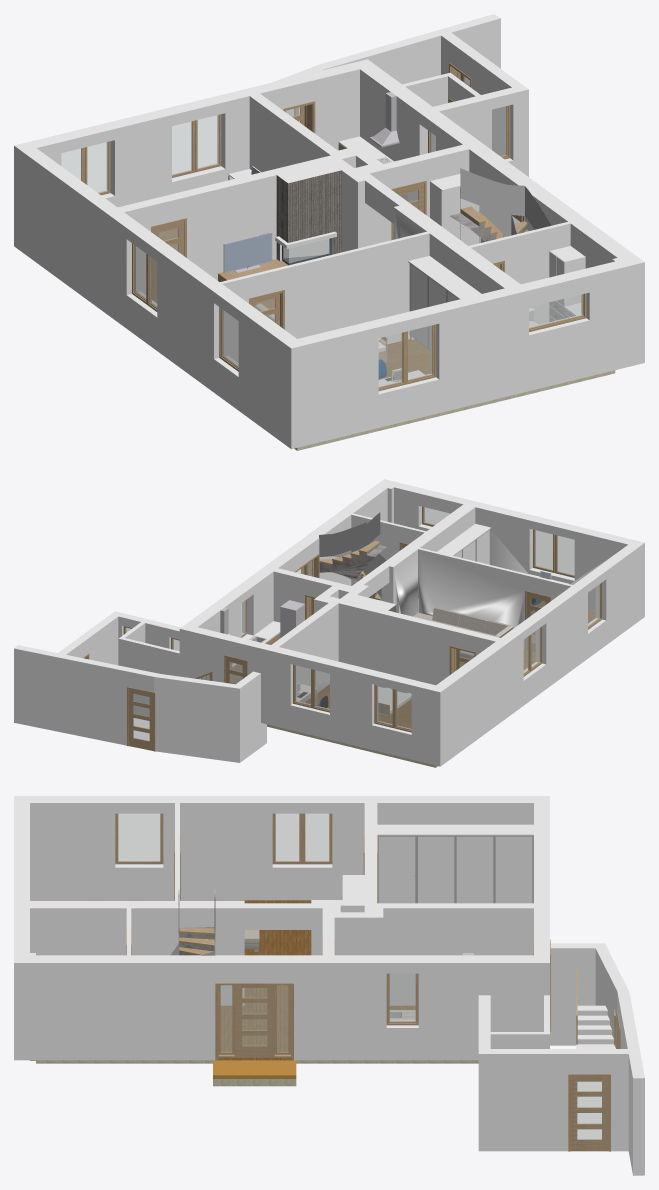
The model's file is shlyakhtynci_planuvannya_v4.obj.
3 renders of one model, top to bottom at view 1: azimuth 30°, elevation 25°; view 2: azimuth 150°, elevation 25°; view 3: azimuth 270°, elevation 25°, orthographic. The views are drawn at different scales.
Parts seen in each view (by area): view 1: Mesh1 Group1 Model, Mesh49 Group1 Model, Mesh2 Group1 Model; view 2: Mesh1 Group1 Model, Mesh49 Group1 Model, Mesh2 Group1 Model; view 3: Mesh1 Group1 Model, Mesh46 Group1 Model.
Boxes of the visible parts, x1=… form: Mesh1 Group1 Model: x1=14, y1=14, x2=644, y2=450; Mesh49 Group1 Model: x1=460, y1=168, x2=551, y2=229; Mesh2 Group1 Model: x1=479, y1=182, x2=516, y2=236; Mesh1 Group1 Model: x1=14, y1=479, x2=644, y2=767; Mesh49 Group1 Model: x1=319, y1=522, x2=386, y2=567; Mesh2 Group1 Model: x1=356, y1=512, x2=381, y2=597; Mesh1 Group1 Model: x1=14, y1=796, x2=644, y2=1175; Mesh46 Group1 Model: x1=576, y1=1005, x2=615, y2=1048.
Bounding box in the file's own units: 585 × 181 × 624.
